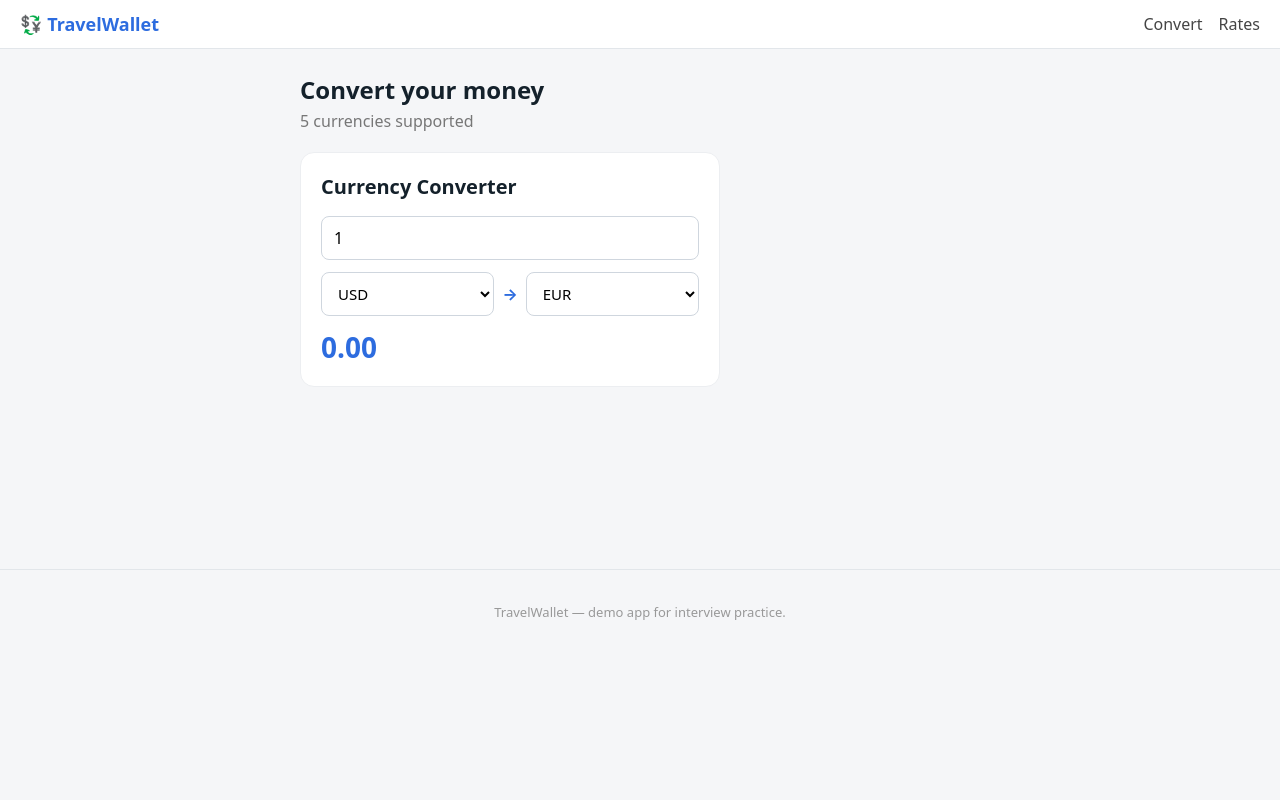
Test: m02 · TravelWallet — app renders › navigates to the Rates route via the navbar
Click the link with test id "nav-rates".
click(1239, 24)  # box [1219,13,1260,35]
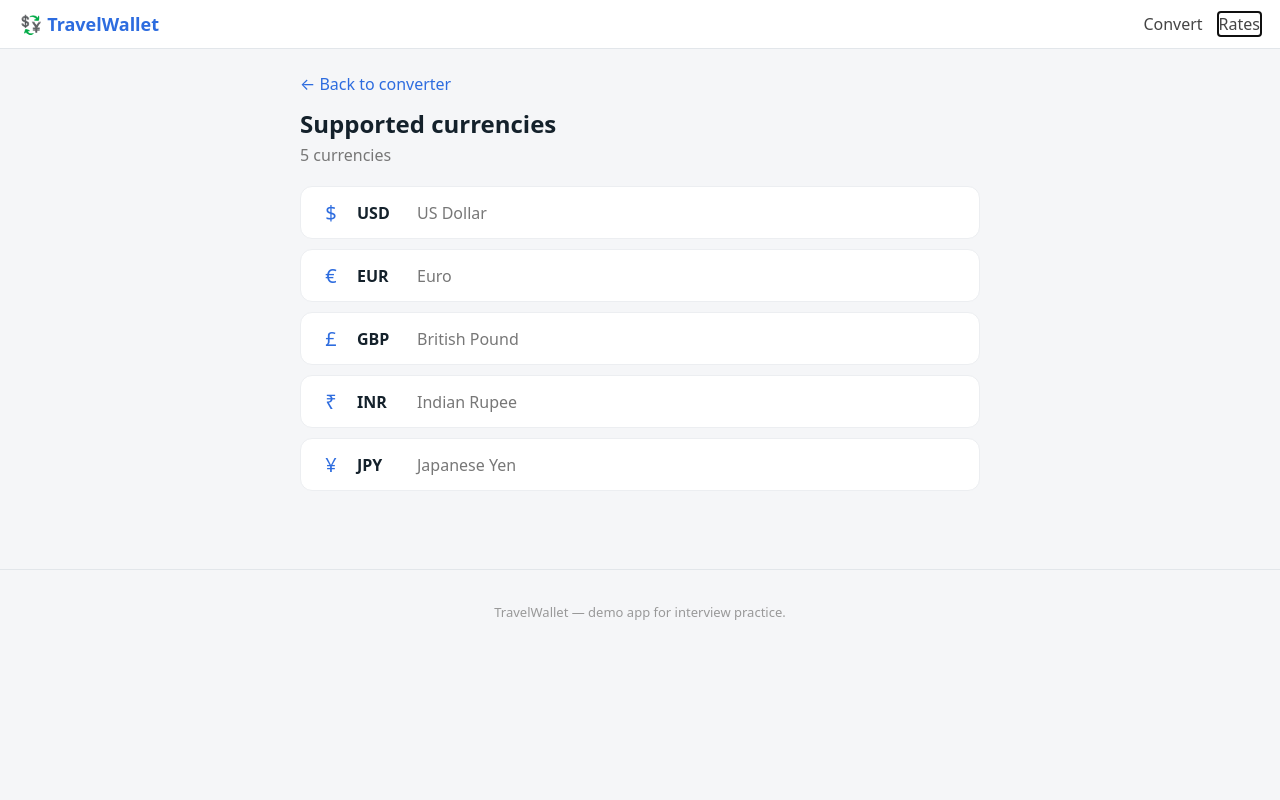
Expected: the element with test id "rates-page" is shown, [280,49,1000,515]
